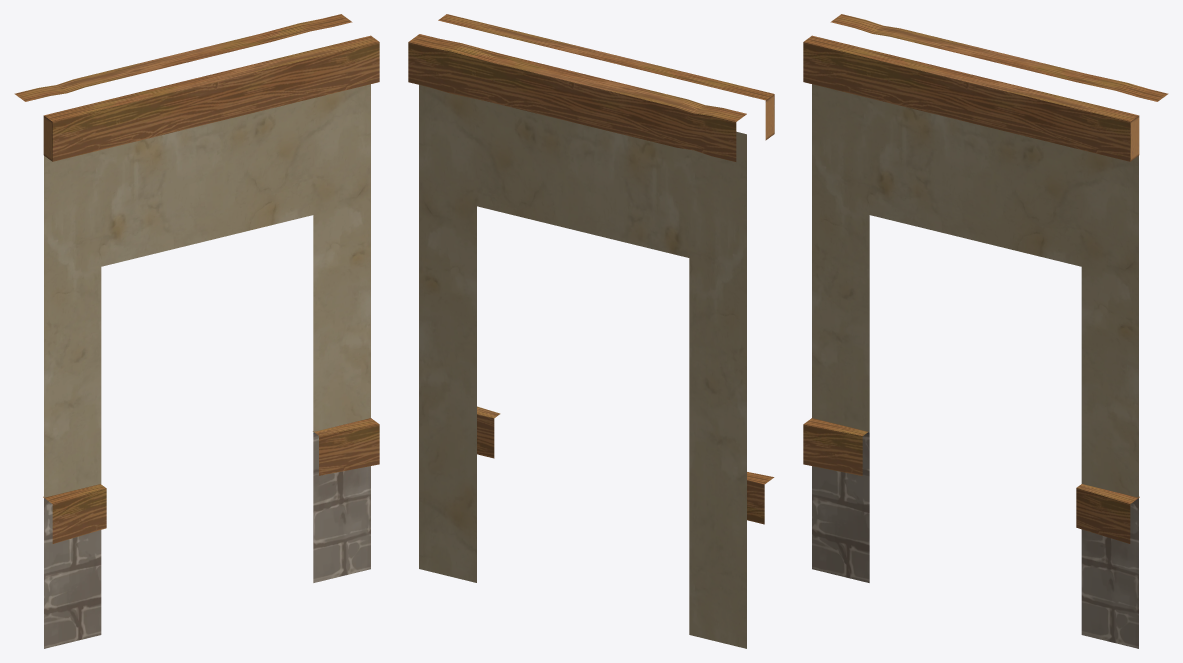
The model's file is wall-plaster-door-flat.glb.
3 views of the same model, side by side, from view 1: azimuth 30°, elevation 25°; view 2: azimuth 150°, elevation 25°; view 3: azimuth 330°, elevation 25° (orthographic).
Visible parts, largest first — view 1: Wall_Plaster_Door_Flat; view 2: Wall_Plaster_Door_Flat; view 3: Wall_Plaster_Door_Flat.
Part boxes in pixels (left/top/right/bottom): Wall_Plaster_Door_Flat: left=14, top=14, right=379, bottom=648; Wall_Plaster_Door_Flat: left=408, top=14, right=774, bottom=648; Wall_Plaster_Door_Flat: left=803, top=14, right=1168, bottom=648.
Size of the model in its own units: 2 by 3.12 by 0.4065.
Materials: 3 (3 with a texture image).
